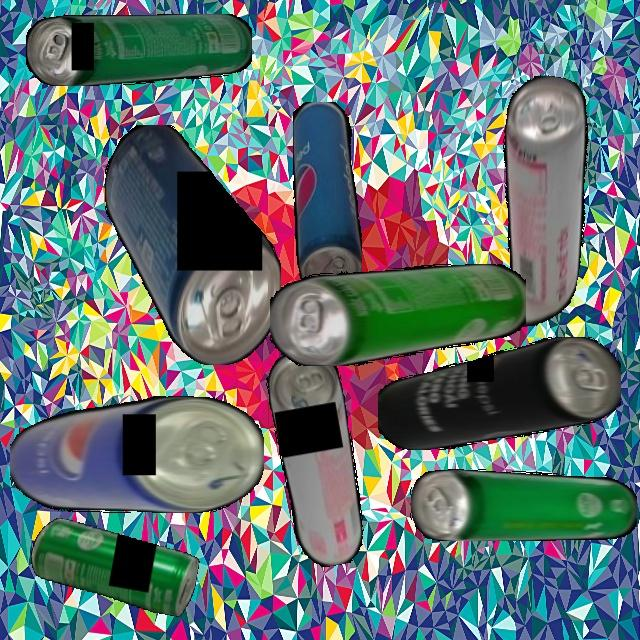debris: (104, 124, 281, 365), (471, 70, 611, 334), (9, 396, 264, 513), (377, 337, 621, 450), (270, 263, 526, 366), (262, 346, 373, 571), (25, 515, 202, 618), (410, 468, 637, 541), (26, 13, 252, 86), (292, 101, 362, 301)
